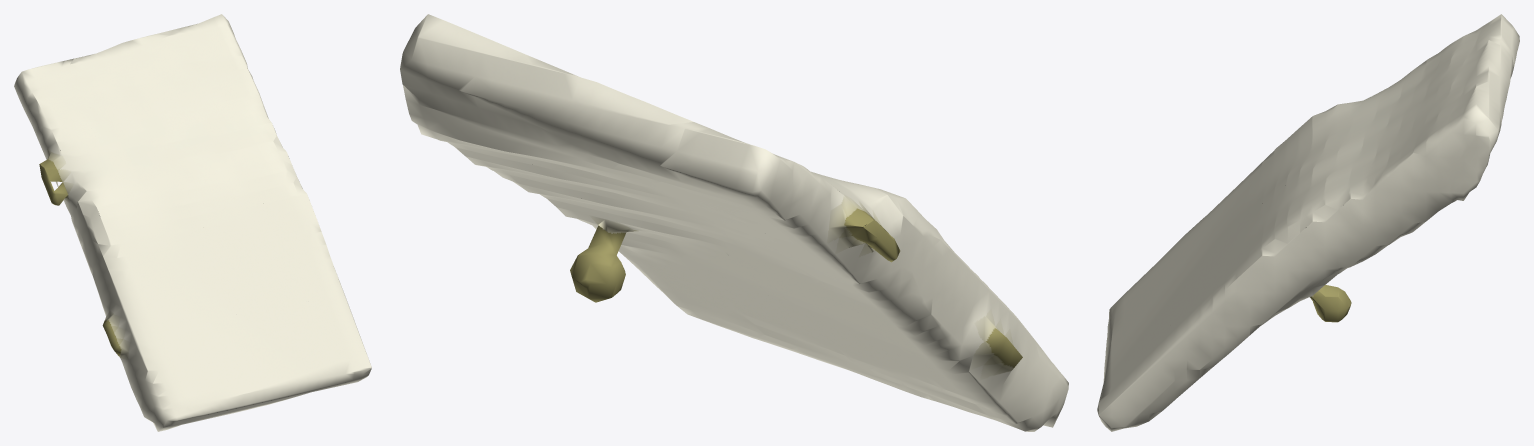
File: kay-door.gltf
The picture shows the model from 3 angles, left to right: view 1: azimuth 30°, elevation 25°; view 2: azimuth 150°, elevation 25°; view 3: azimuth 270°, elevation 25°; orthographic projection. The views are drawn at different scales.
Parts seen in each view (by area): view 1: Layer_1; view 2: Layer_1; view 3: Layer_1.
Boxes of the visible parts, box(x1,y1,x2,y2) form: Layer_1: box(14, 14, 371, 431); Layer_1: box(400, 14, 1068, 431); Layer_1: box(1097, 14, 1519, 431).
Size of the model in its own units: 19.48 by 22.48 by 25.22.
Materials: 1 (1 with a texture image).
